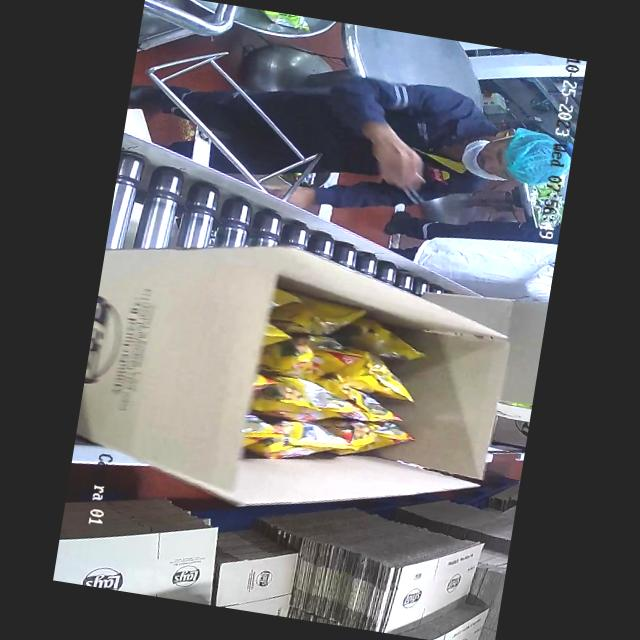salted: (230, 317, 422, 483)
